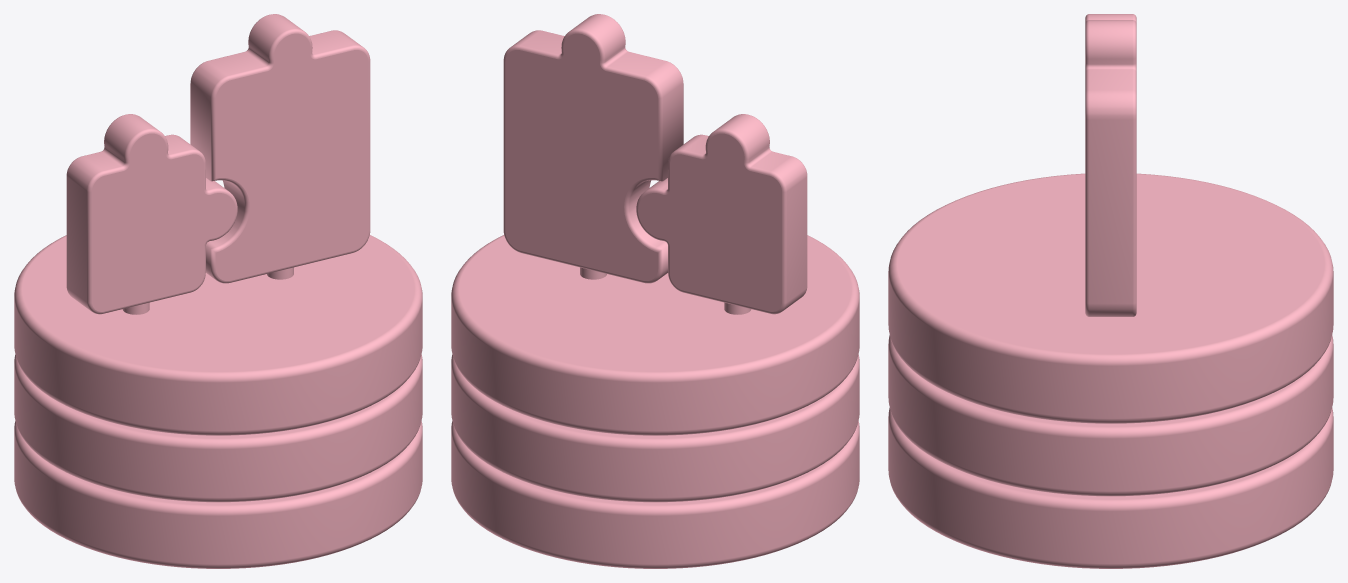
Rendered from dynamodb.glb.
The picture shows the model from 3 angles, left to right: view 1: azimuth 30°, elevation 25°; view 2: azimuth 150°, elevation 25°; view 3: azimuth 270°, elevation 25°; orthographic projection. The views are drawn at different scales.
Parts seen in each view (by area): view 1: Disc 3, Value puzzle piece, Disc 2, Disc 1, Key puzzle piece; view 2: Disc 3, Value puzzle piece, Disc 2, Disc 1, Key puzzle piece; view 3: Disc 3, Disc 2, Disc 1, Value puzzle piece.
Boxes of the visible parts, x1=… form: Disc 3: x1=14, y1=235, x2=422, y2=435; Value puzzle piece: x1=190, y1=14, x2=370, y2=283; Disc 2: x1=14, y1=354, x2=422, y2=502; Disc 1: x1=14, y1=421, x2=422, y2=568; Key puzzle piece: x1=66, y1=114, x2=237, y2=314; Disc 3: x1=451, y1=235, x2=859, y2=435; Value puzzle piece: x1=503, y1=14, x2=683, y2=283; Disc 2: x1=451, y1=354, x2=859, y2=502; Disc 1: x1=451, y1=421, x2=859, y2=568; Key puzzle piece: x1=636, y1=114, x2=807, y2=314; Disc 3: x1=888, y1=173, x2=1333, y2=423; Disc 2: x1=888, y1=335, x2=1333, y2=496; Disc 1: x1=888, y1=408, x2=1333, y2=568; Value puzzle piece: x1=1085, y1=20, x2=1136, y2=316.
Size of the model in its own units: 2 by 2.42 by 2.
